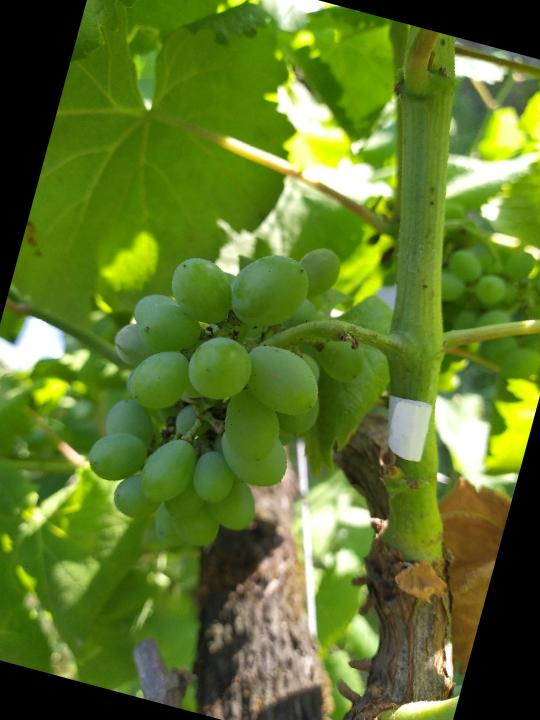grape: (60, 200, 396, 591)
